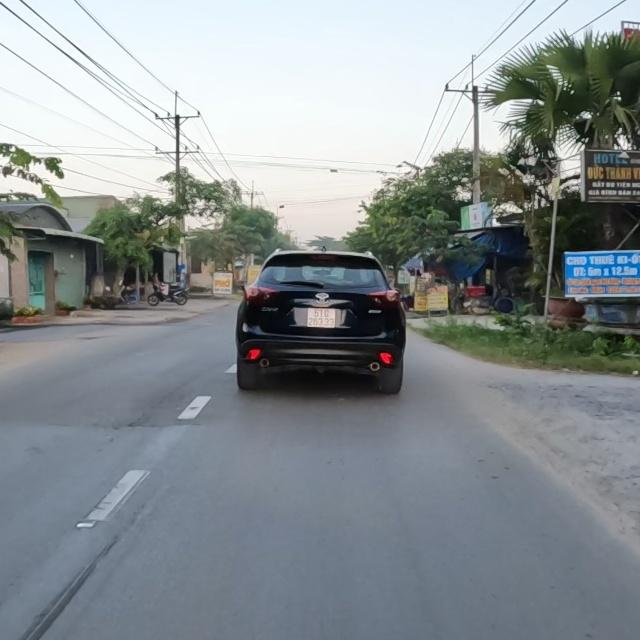license-plate: (305, 306, 337, 328)
